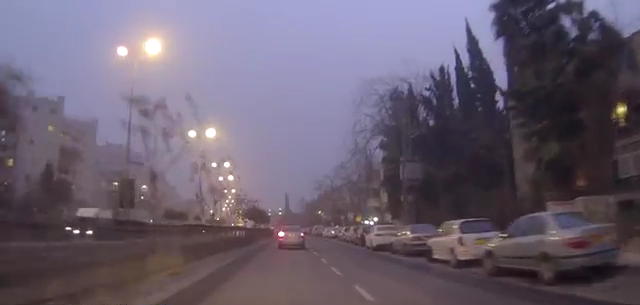car: (479, 211, 619, 284), (427, 218, 509, 270), (394, 224, 442, 255), (365, 224, 403, 251), (277, 225, 306, 249), (357, 224, 382, 248), (349, 225, 372, 245), (339, 226, 359, 242), (329, 226, 346, 238)
